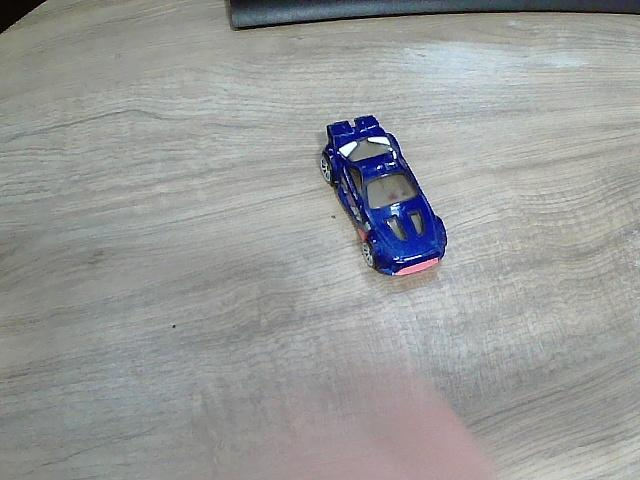Carro: (320, 116, 446, 278)
